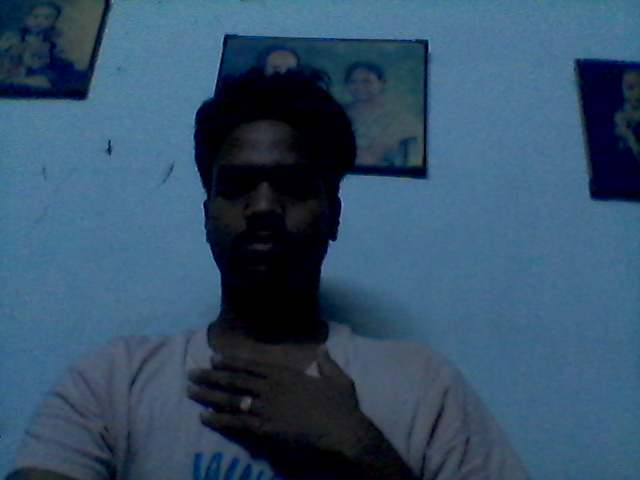Fine: (181, 340, 381, 462)
